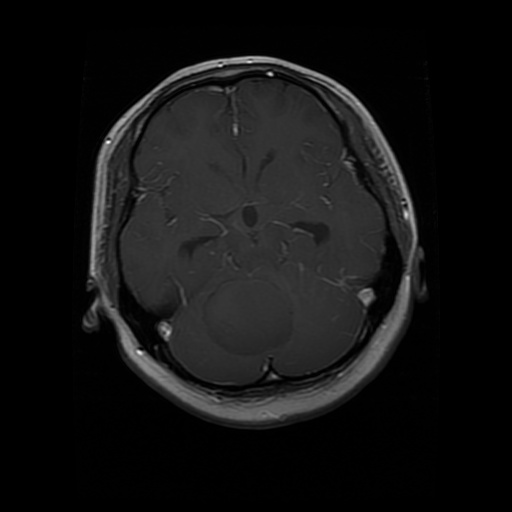glioma: (208, 280, 291, 351)
